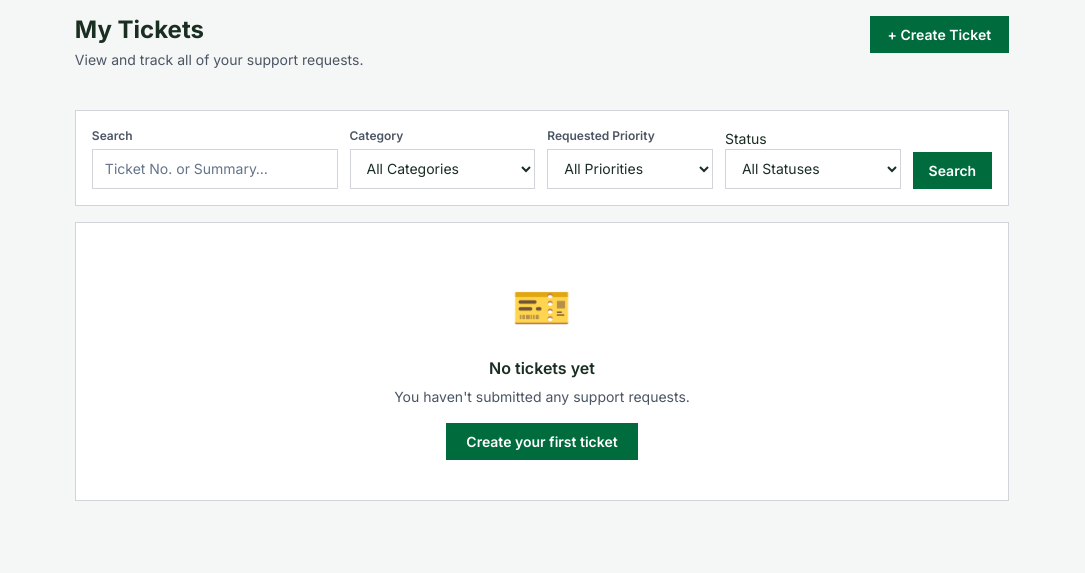
Scenario: MyTicketsPage › UI-12: Shows no-results state distinct from empty state when search fails
Type "NotFound" into the field with placeholder "Ticket No. or Summary…".
click(215, 169); type("NotFound")  # box [92,149,338,189]
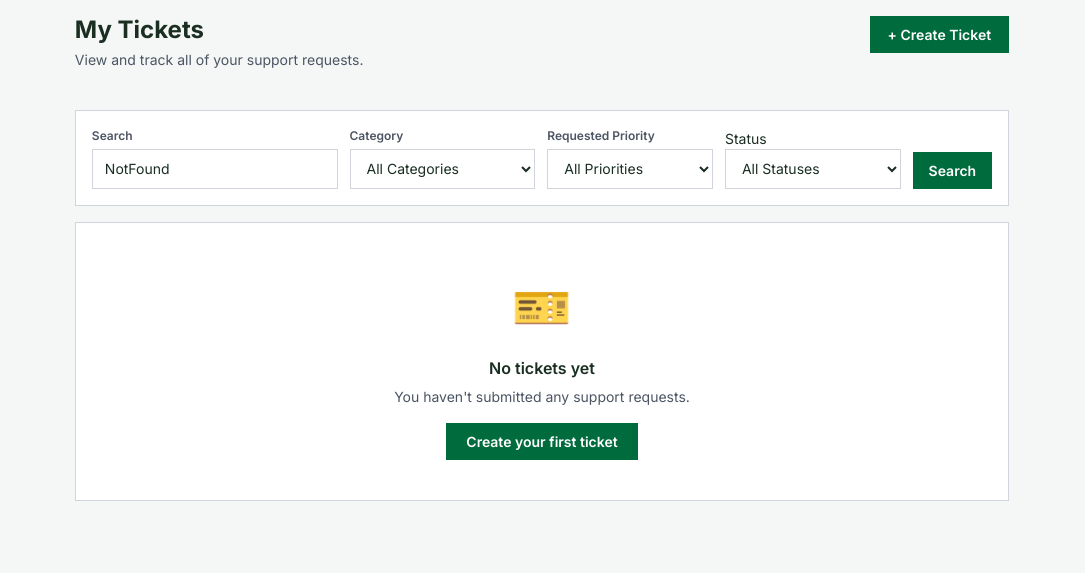
Submit the form with placeholder "Ticket No. or Summary…", box [92,127,992,189]
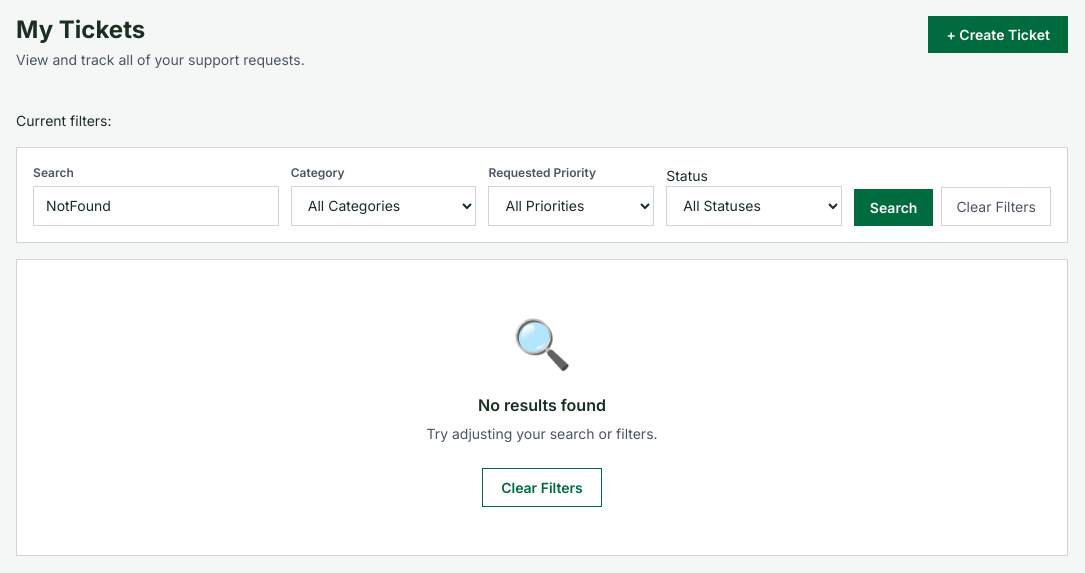
Expected: the heading "No results found" is shown, [478,395,606,415]
